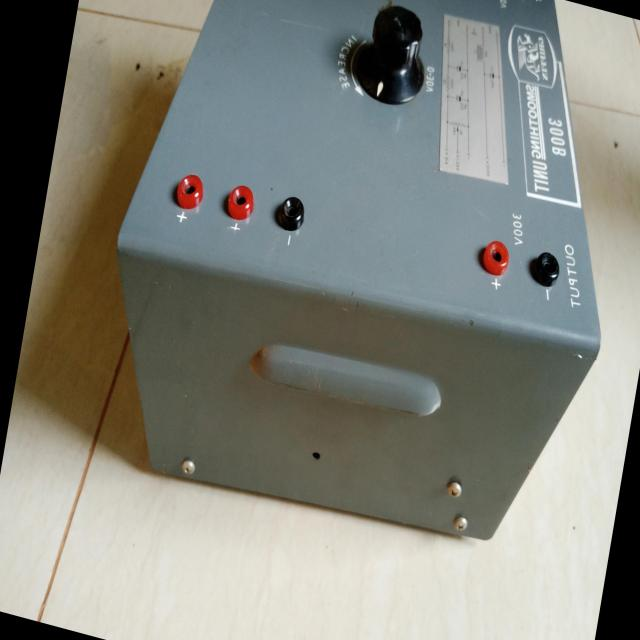Smoothing Unit: (72, 0, 640, 624)
